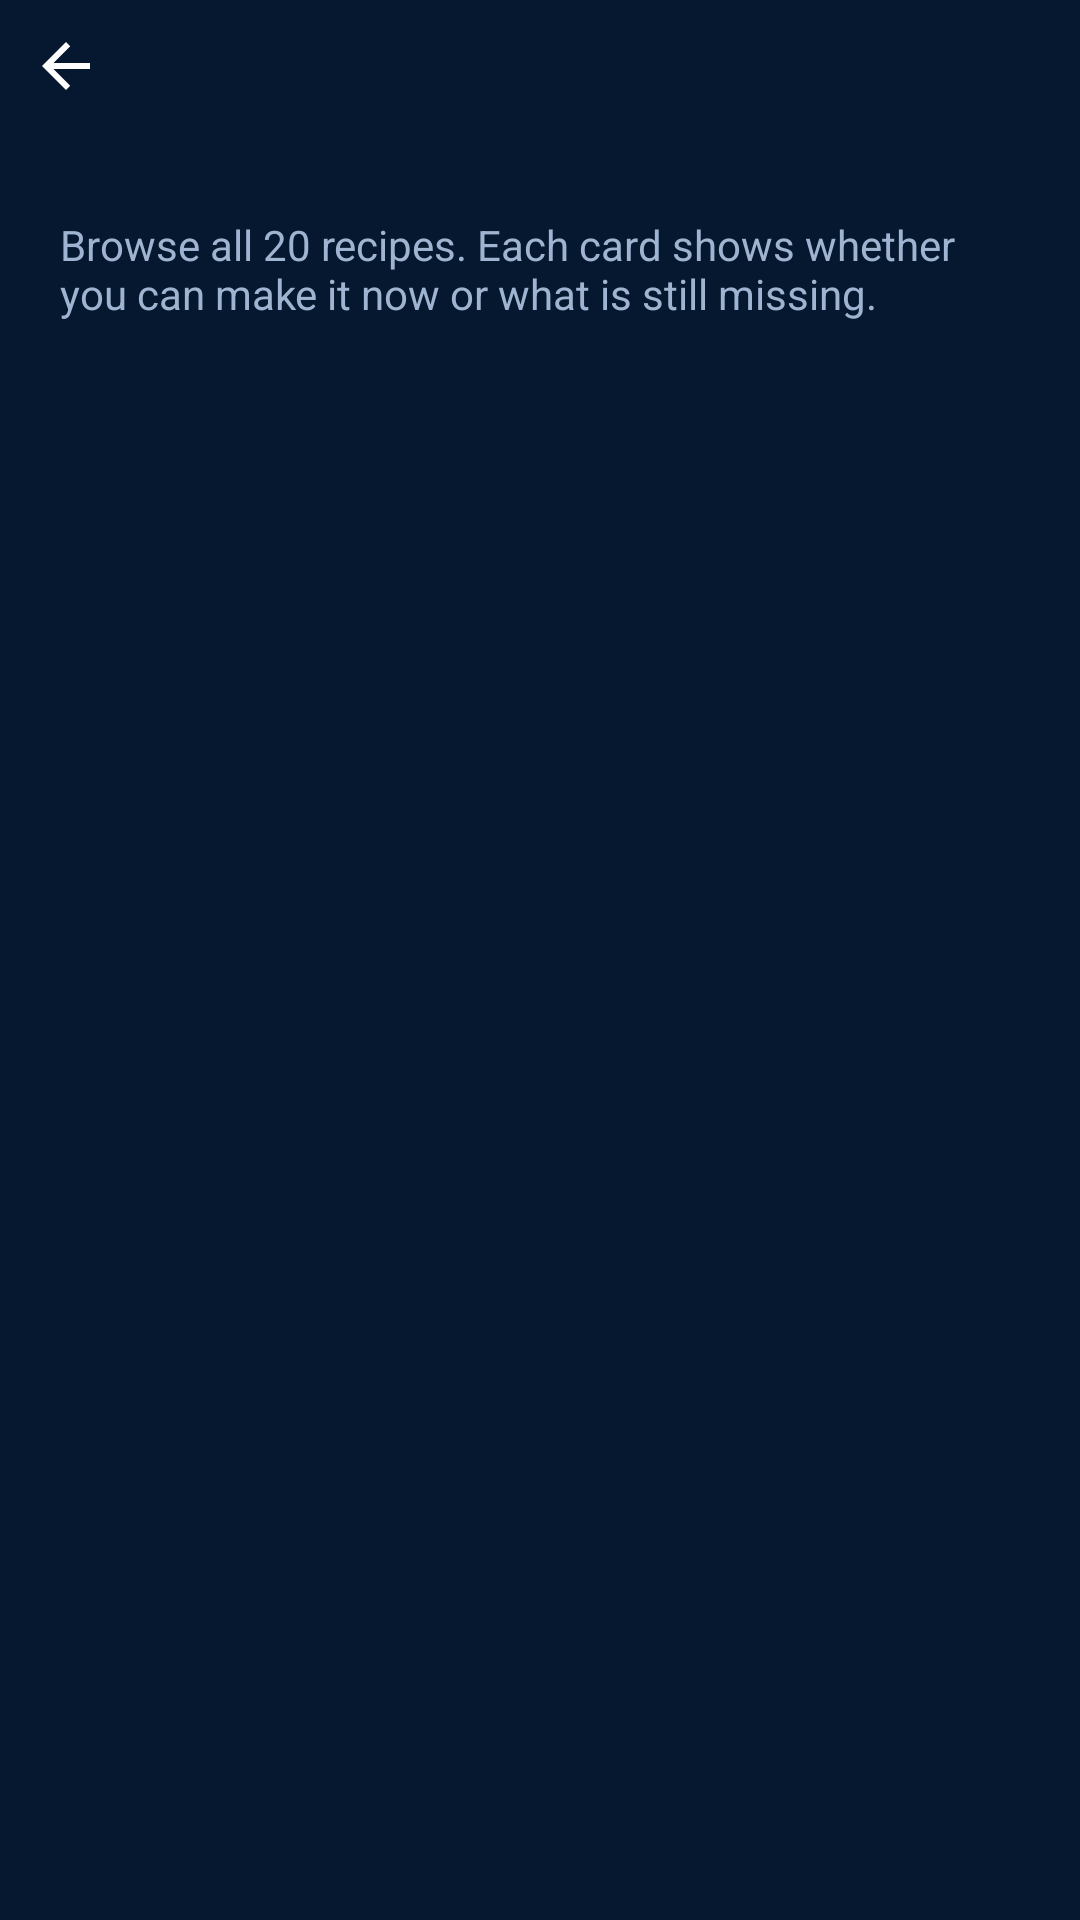

Named icons in this screenshot (1080 × 1920) and their bounding boxes, region(x1, y1, x2, y2):
Back: region(42, 42, 90, 90)
